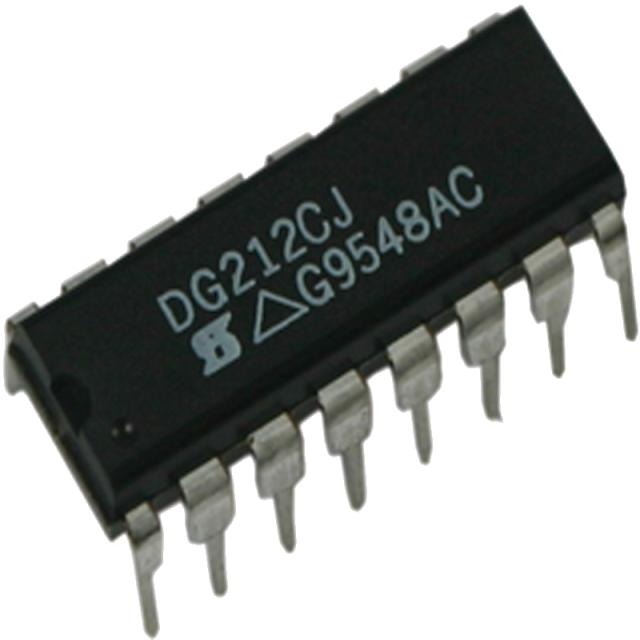IC: (19, 83, 630, 590)
